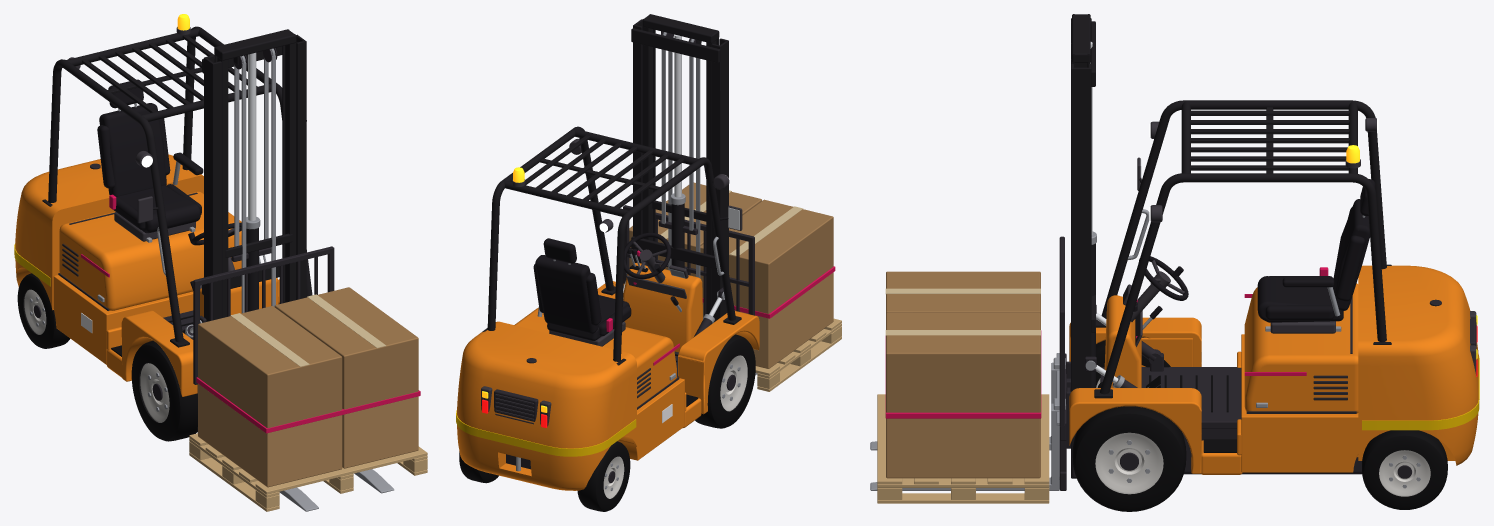
The model's file is counter.glb.
3 views of the same model, side by side, from view 1: azimuth 30°, elevation 25°; view 2: azimuth 150°, elevation 25°; view 3: azimuth 270°, elevation 25° (orthographic). The views are drawn at different scales.
Parts seen in each view (by area): view 1: frame, pallet_top, mast_inner_rail, car_bar_lo, w_front, w_rear, chain_f, w_front_rim, chain_f.001, chain_r, chain_r.001, w_rear_rim; view 2: frame, pallet_top, mast_inner_rail, w_front, car_bar_lo, w_rear, w_front_rim, chain_f, chain_r, chain_f.001, chain_r.001, w_rear_rim (+1 smaller); view 3: frame, pallet_top, w_front.001, w_rear.001, car_bar_lo, w_front_rim.001, w_rear_rim.001, mast_inner_rail.
Boxes of the visible parts, left/top/right/bottom form: frame: left=14, top=14, right=312, bottom=396; pallet_top: left=189, top=287, right=427, bottom=511; mast_inner_rail: left=214, top=29, right=296, bottom=317; car_bar_lo: left=193, top=246, right=394, bottom=511; w_front: left=131, top=340, right=197, bottom=441; w_rear: left=17, top=273, right=70, bottom=348; chain_f: left=241, top=62, right=246, bottom=313; w_front_rim: left=140, top=363, right=169, bottom=422; chain_f.001: left=271, top=55, right=275, bottom=306; chain_r: left=234, top=65, right=239, bottom=246; chain_r.001: left=264, top=58, right=268, bottom=239; w_rear_rim: left=24, top=289, right=46, bottom=334; frame: left=456, top=19, right=759, bottom=490; pallet_top: left=629, top=182, right=841, bottom=391; mast_inner_rail: left=642, top=14, right=719, bottom=314; w_front: left=695, top=334, right=755, bottom=428; car_bar_lo: left=623, top=205, right=757, bottom=374; w_rear: left=577, top=441, right=630, bottom=511; w_front_rim: left=720, top=355, right=747, bottom=411; chain_f: left=696, top=58, right=700, bottom=277; chain_r: left=689, top=56, right=693, bottom=230; chain_f.001: left=668, top=51, right=672, bottom=270; chain_r.001: left=661, top=49, right=665, bottom=224; w_rear_rim: left=603, top=456, right=624, bottom=498; frame: left=1069, top=18, right=1479, bottom=478; pallet_top: left=877, top=271, right=1049, bottom=503; w_front.001: left=1072, top=406, right=1186, bottom=511; w_rear.001: left=1362, top=430, right=1447, bottom=509; car_bar_lo: left=870, top=236, right=1070, bottom=490; w_front_rim.001: left=1095, top=432, right=1163, bottom=494; w_rear_rim.001: left=1379, top=450, right=1430, bottom=496; mast_inner_rail: left=1071, top=14, right=1092, bottom=234.
Bounding box in the file's own units: 1.3 × 2.81 × 3.54.
